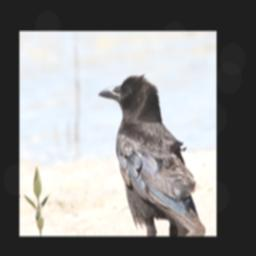Crow: (96, 72, 206, 234)
